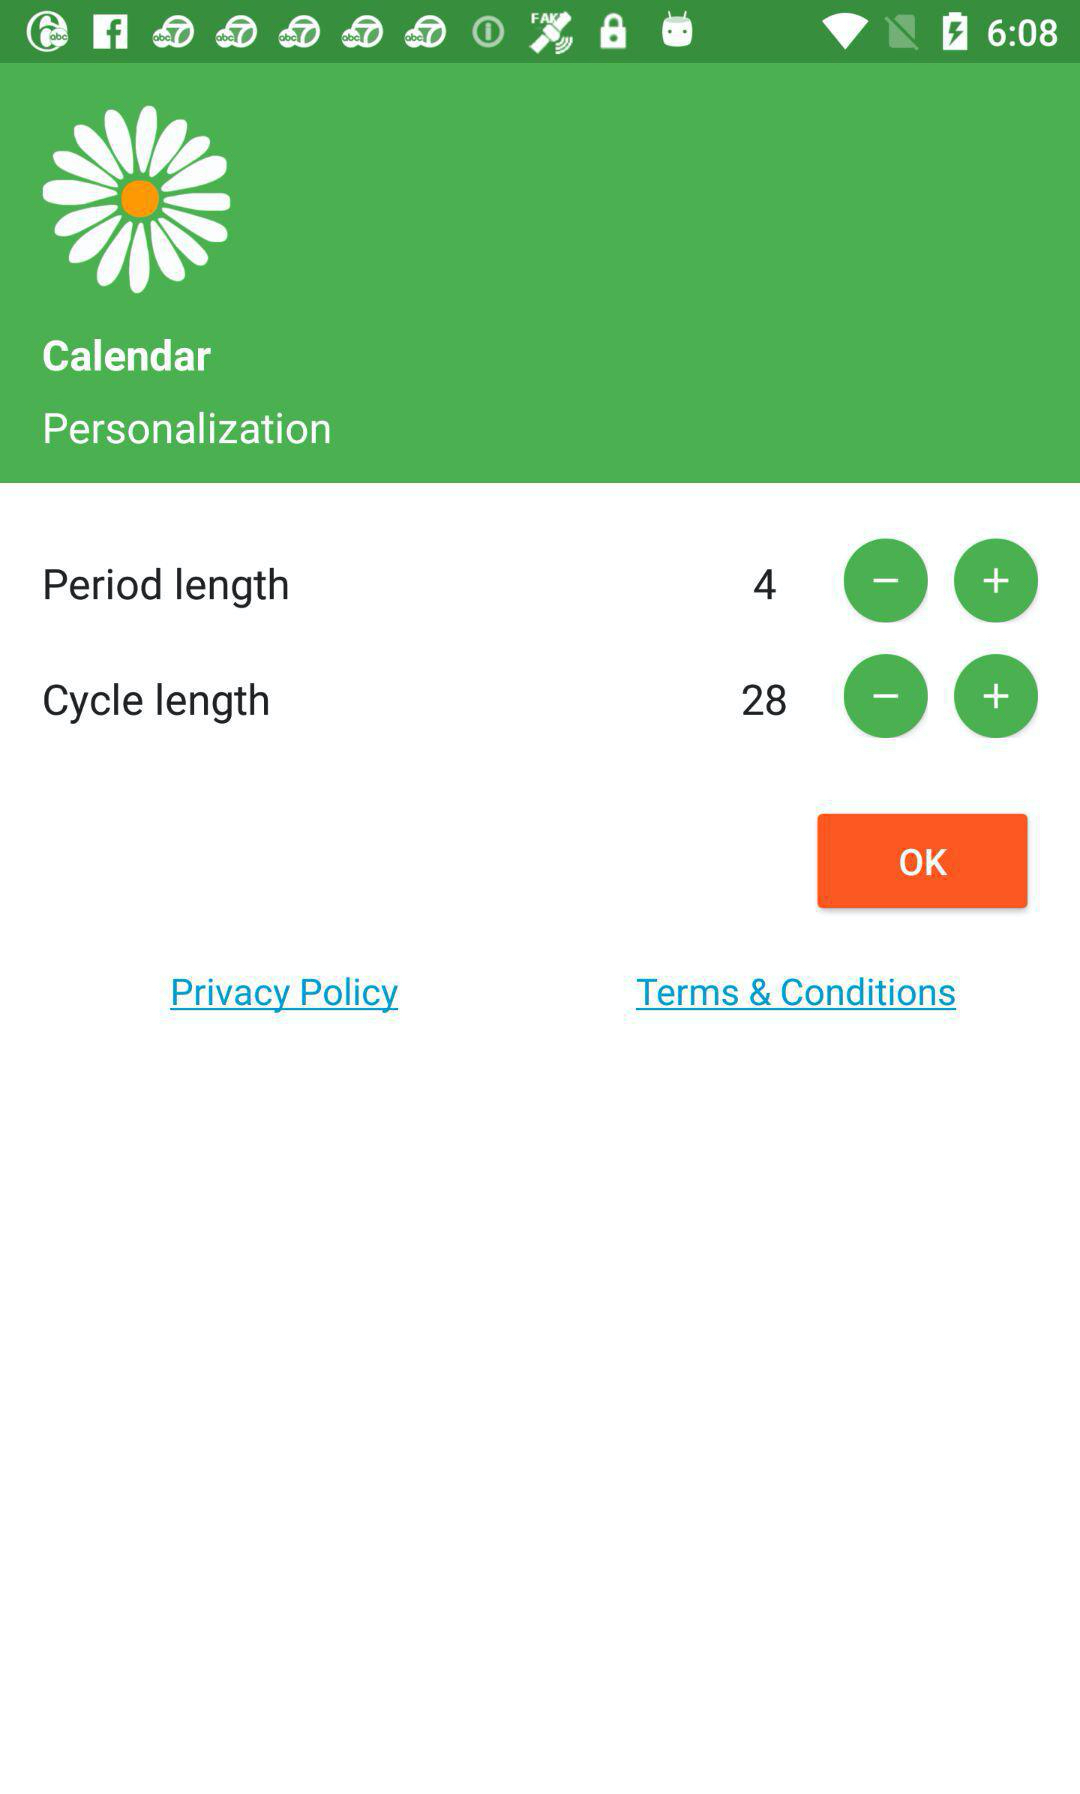Icon: (953, 537, 1040, 625), (843, 538, 929, 625), (953, 654, 1039, 739), (843, 654, 929, 739)
Image: (42, 105, 232, 296)
Text: (45, 566, 290, 610), (45, 410, 332, 446), (45, 683, 270, 727), (44, 340, 213, 374), (742, 684, 787, 718), (753, 568, 776, 600)
TextButton: (817, 812, 1029, 909), (635, 976, 957, 1011), (170, 976, 400, 1014)
UpperTaskBar: (1, 1, 1080, 64)
